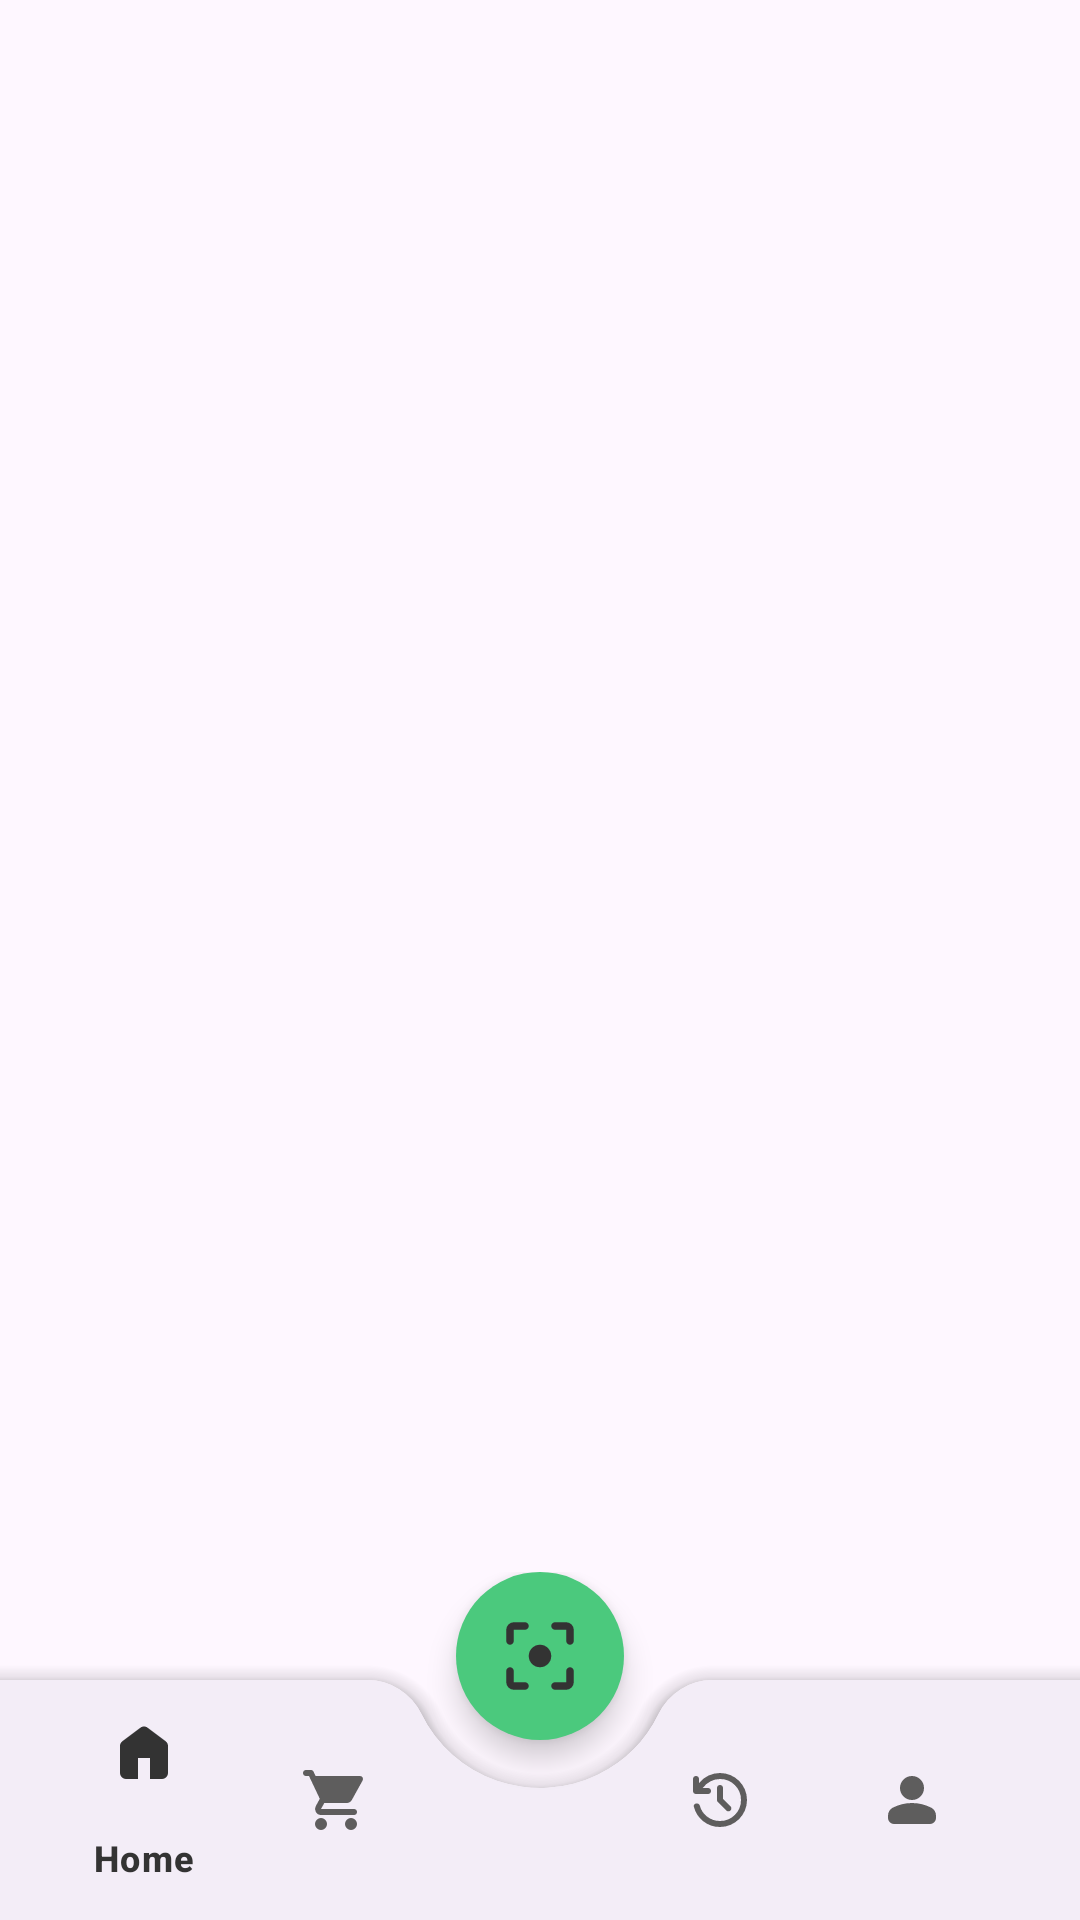

Screen size 1080px×1920px. Icon name, then its box in pixels as bbox(x1, y1, x2, y2):
Freshness detection: bbox(456, 1596, 624, 1764)
